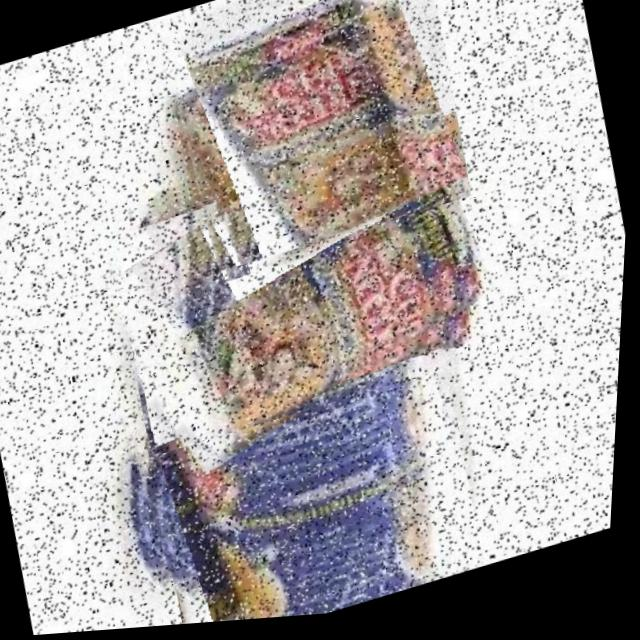Miscellaneous: (91, 110, 511, 464), (100, 270, 502, 633), (144, 0, 482, 283)
